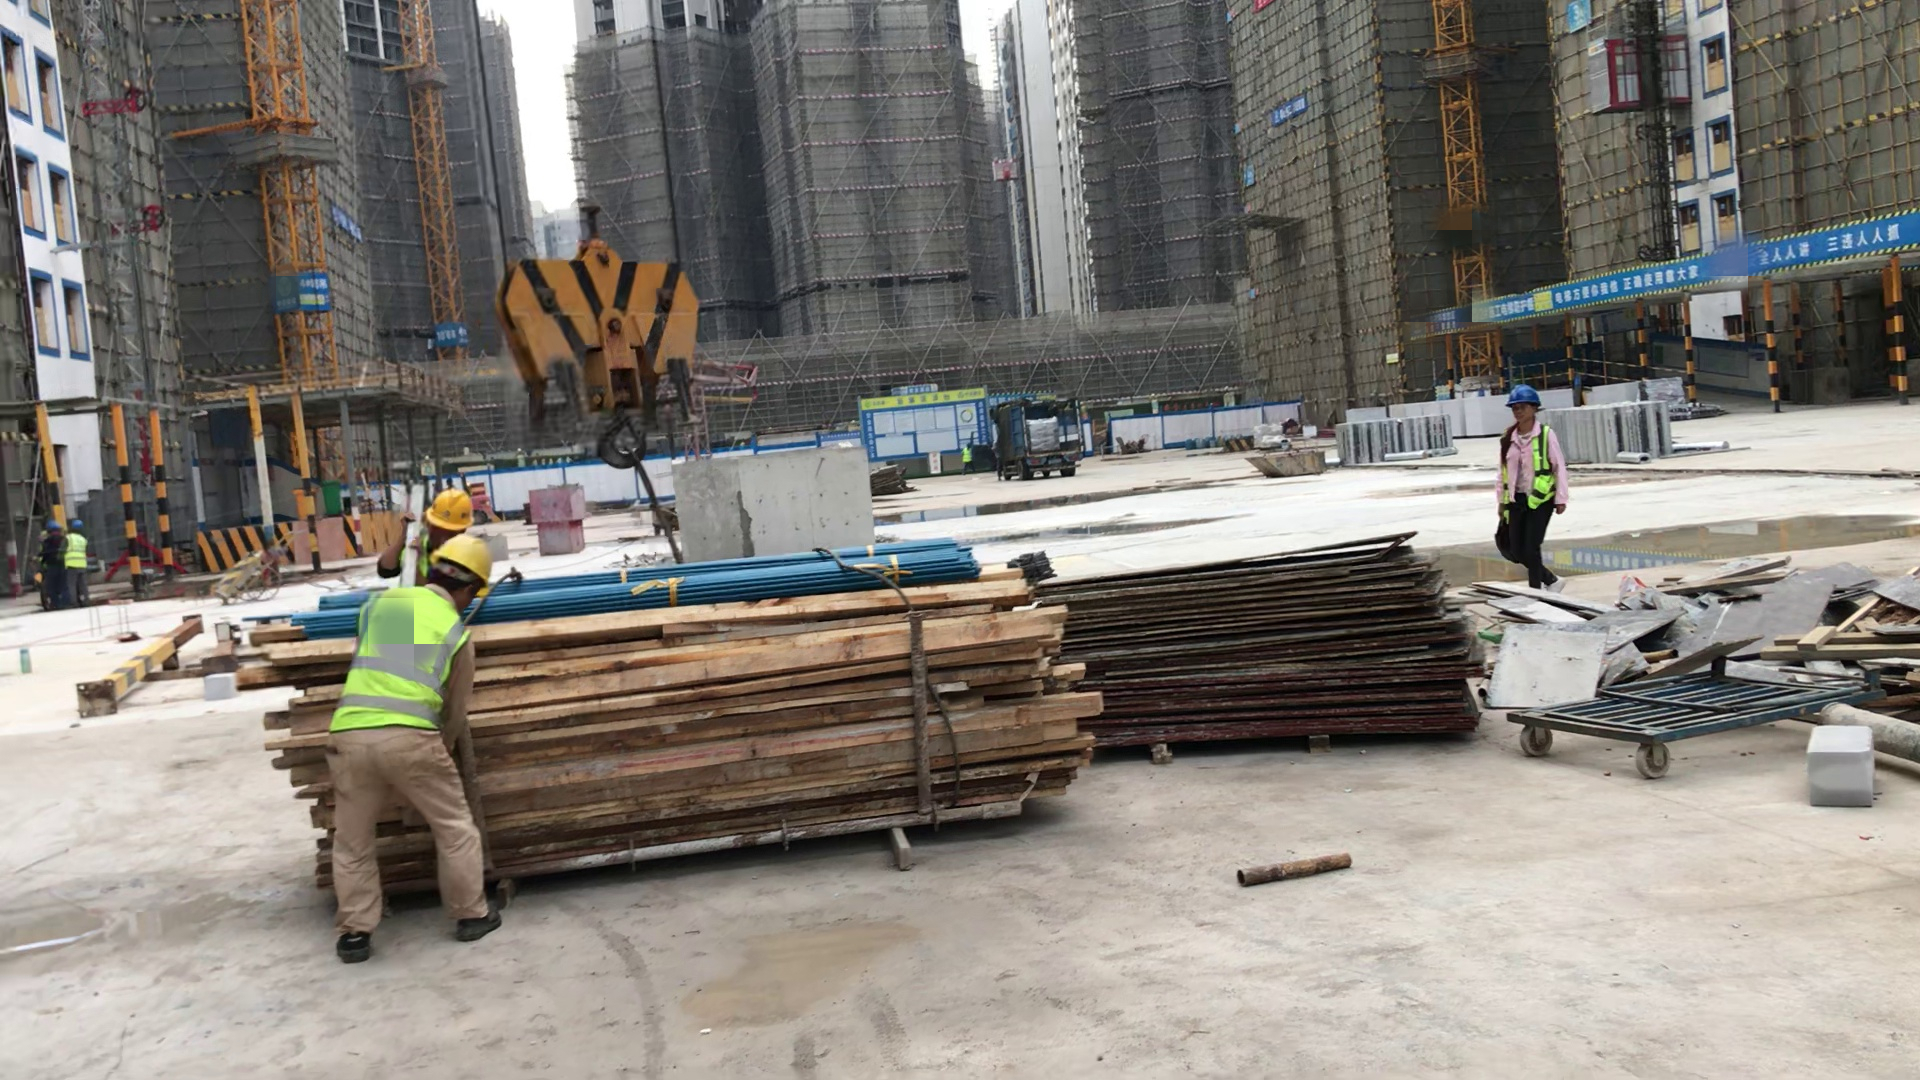board: (1043, 554, 1483, 749)
handcart: (1505, 651, 1846, 777), (212, 526, 295, 610)
helmet: (433, 533, 495, 596), (420, 487, 475, 531), (1506, 385, 1548, 413), (63, 518, 86, 533)
hook: (492, 219, 714, 472)
hopper: (1241, 443, 1334, 474)
person: (331, 532, 499, 961), (1491, 382, 1569, 587), (36, 512, 93, 614), (961, 441, 977, 475)
slogan: (274, 265, 341, 313), (324, 194, 381, 239), (1258, 92, 1310, 136), (428, 319, 468, 350)
vest: (344, 586, 465, 736), (1495, 424, 1555, 511), (59, 529, 92, 571), (961, 446, 972, 464)
wood: (253, 577, 1081, 847)
